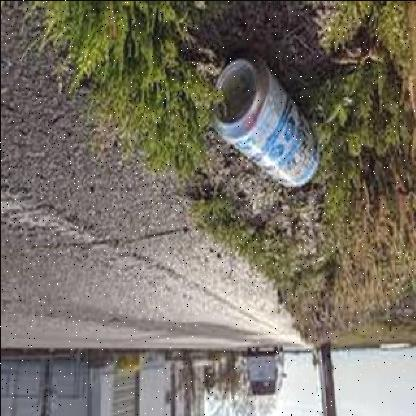Can: (209, 50, 320, 188)
